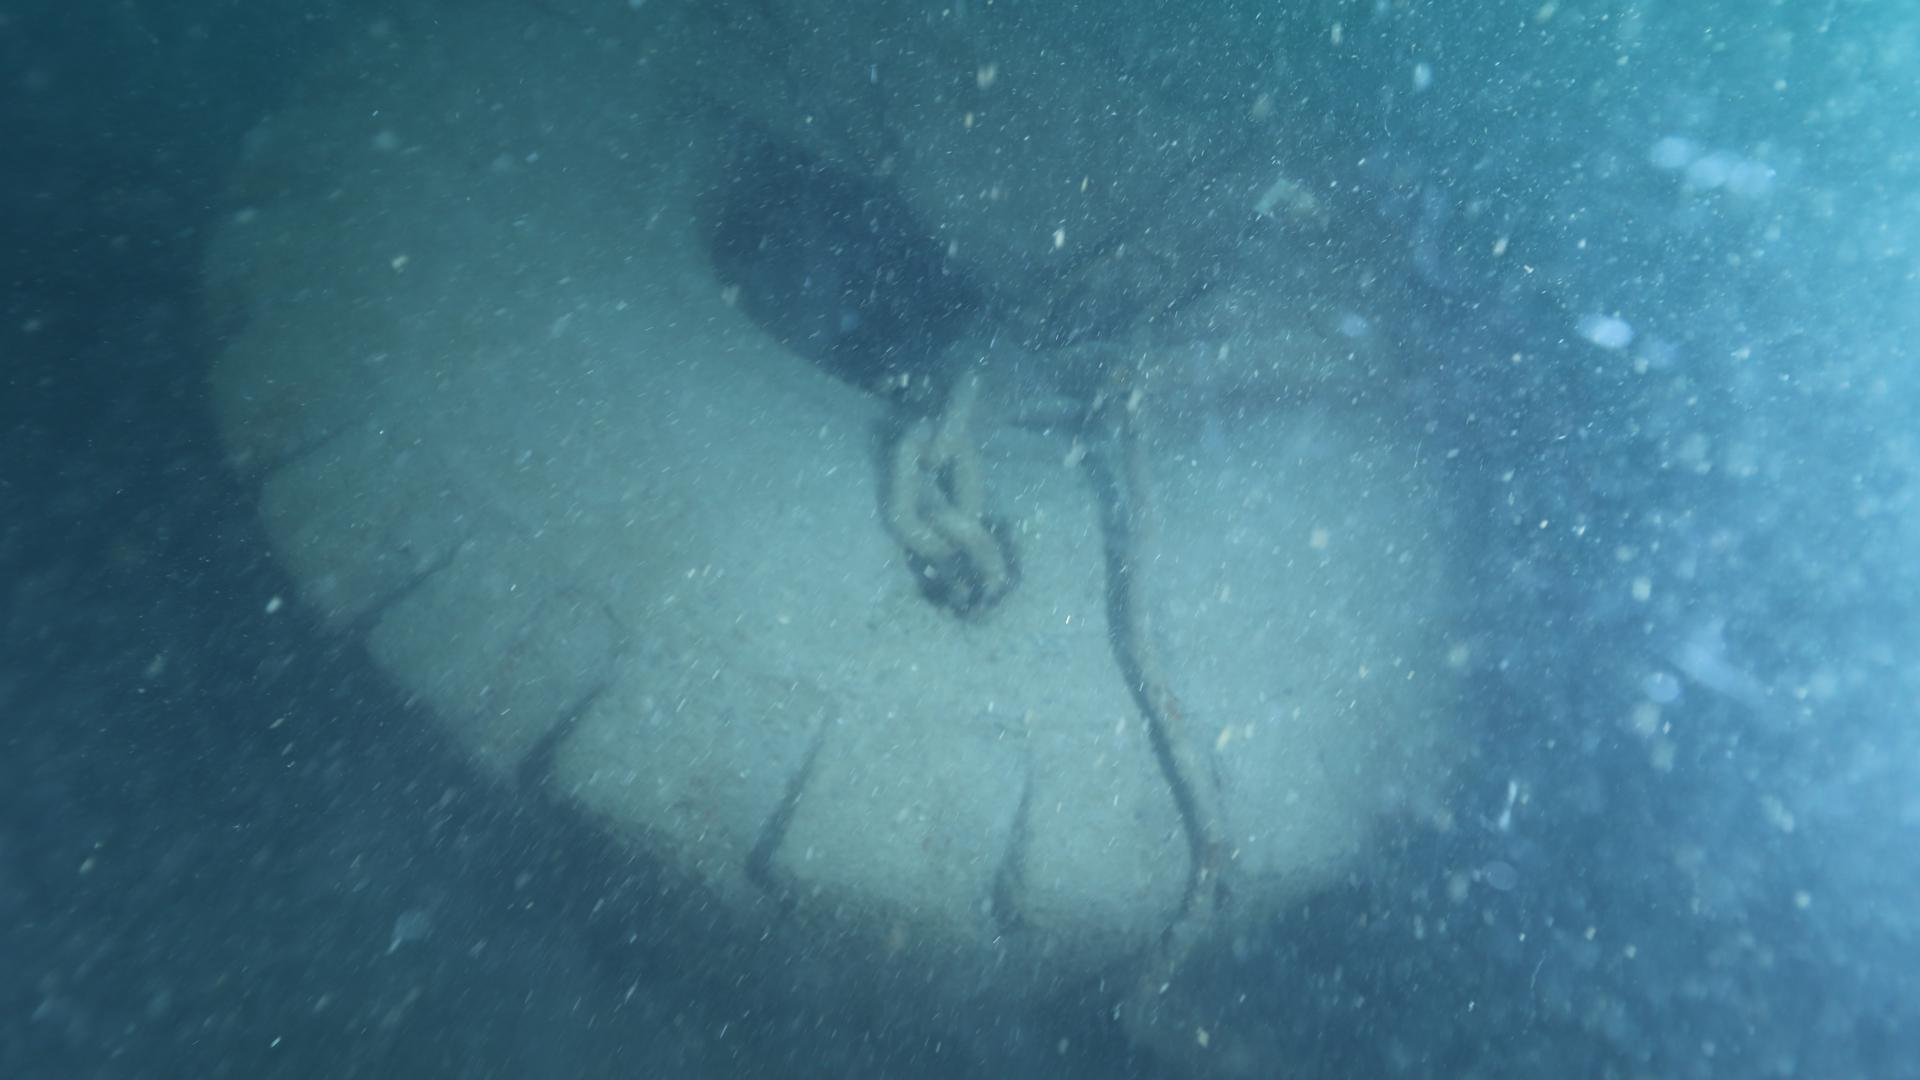tire: (198, 3, 1481, 1029)
